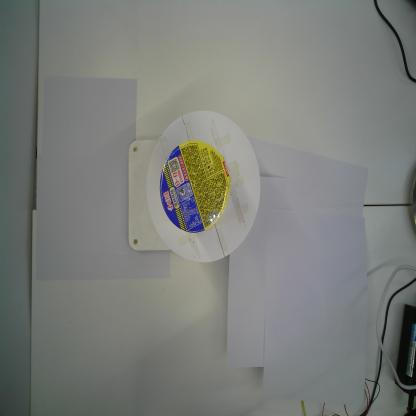Instant Noodles: (160, 139, 231, 234)
